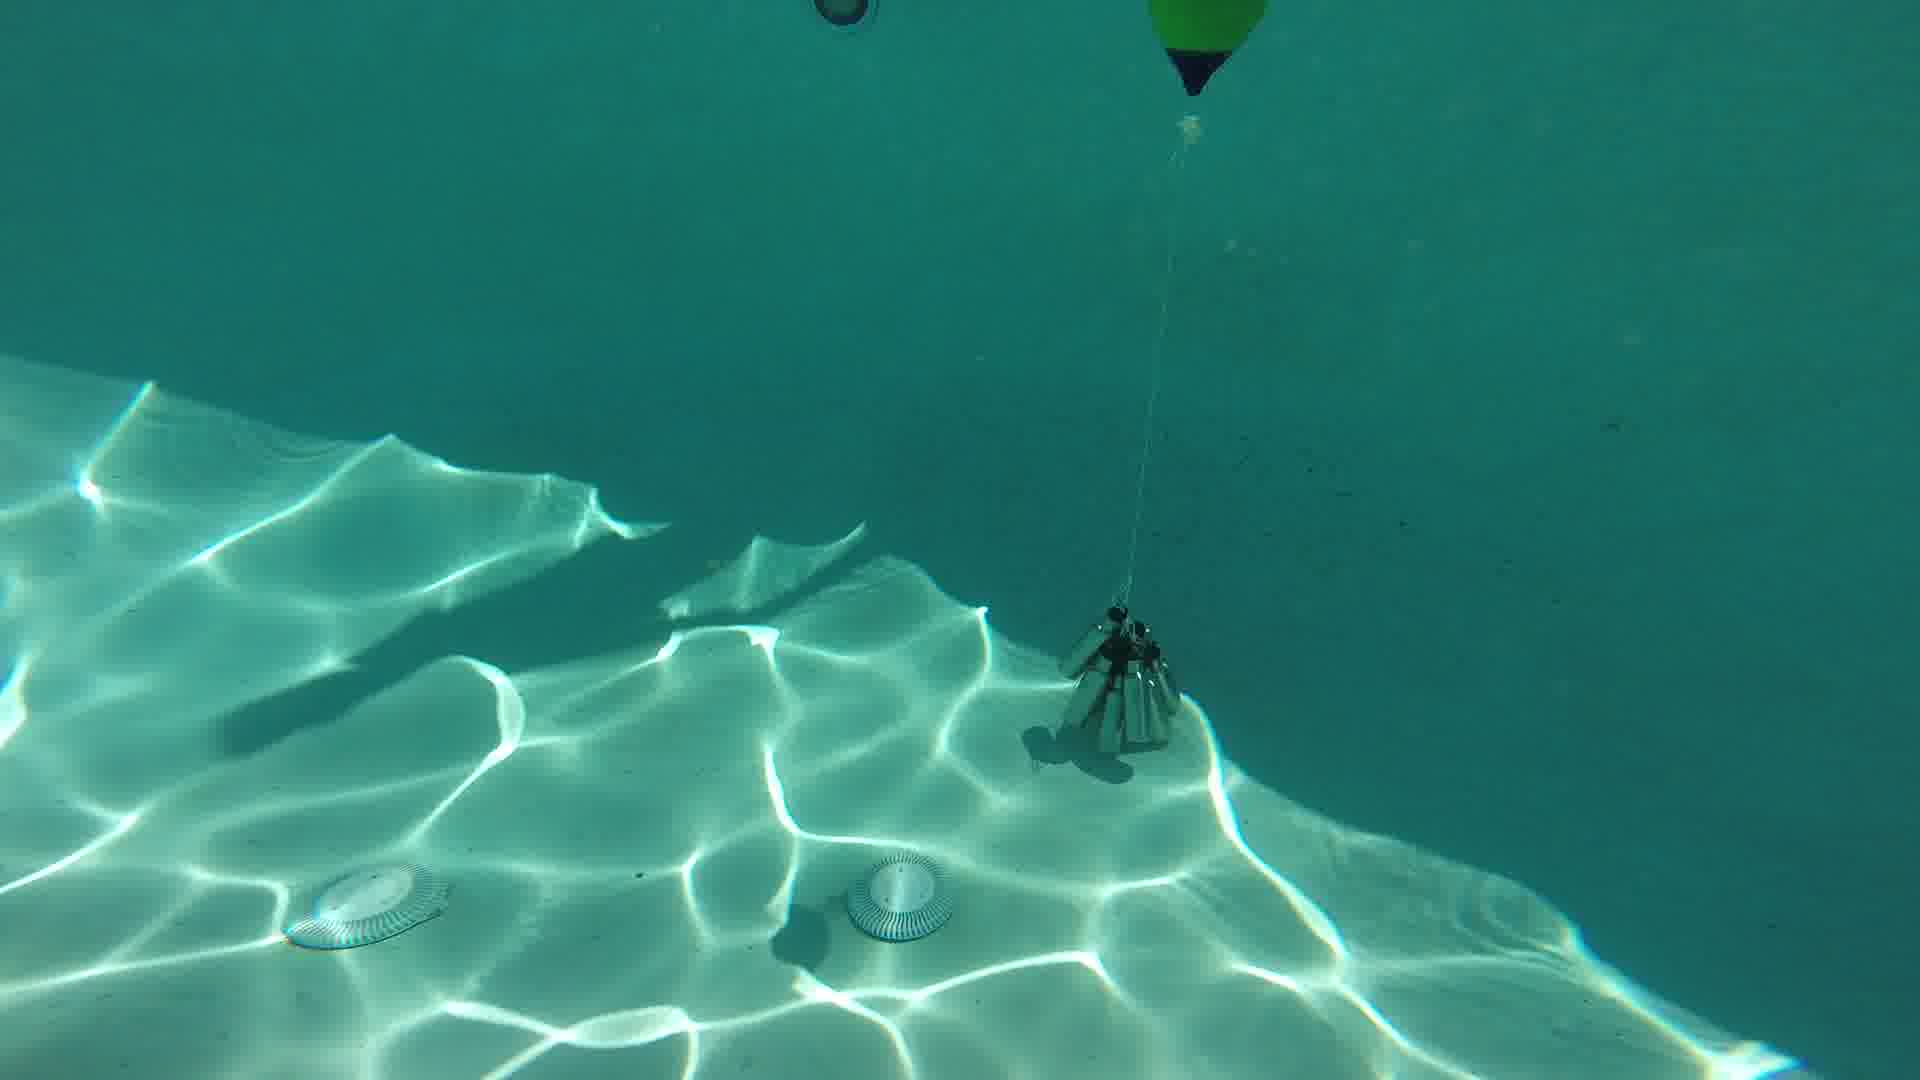yellow_buoy: (1145, 1, 1270, 145)
